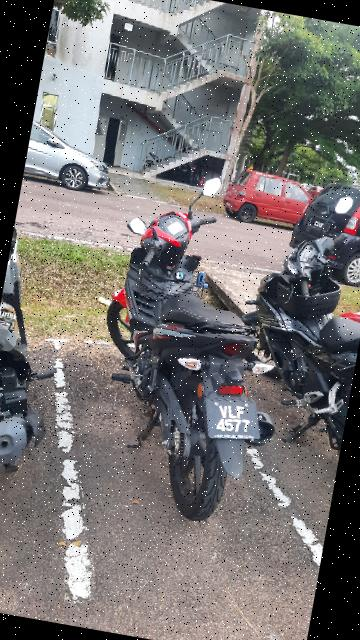License_Plate: (197, 391, 271, 451)
car: (24, 99, 128, 197), (281, 172, 360, 278), (222, 167, 324, 237)
motorcycle: (72, 150, 305, 531), (1, 204, 99, 568), (218, 215, 360, 455)
